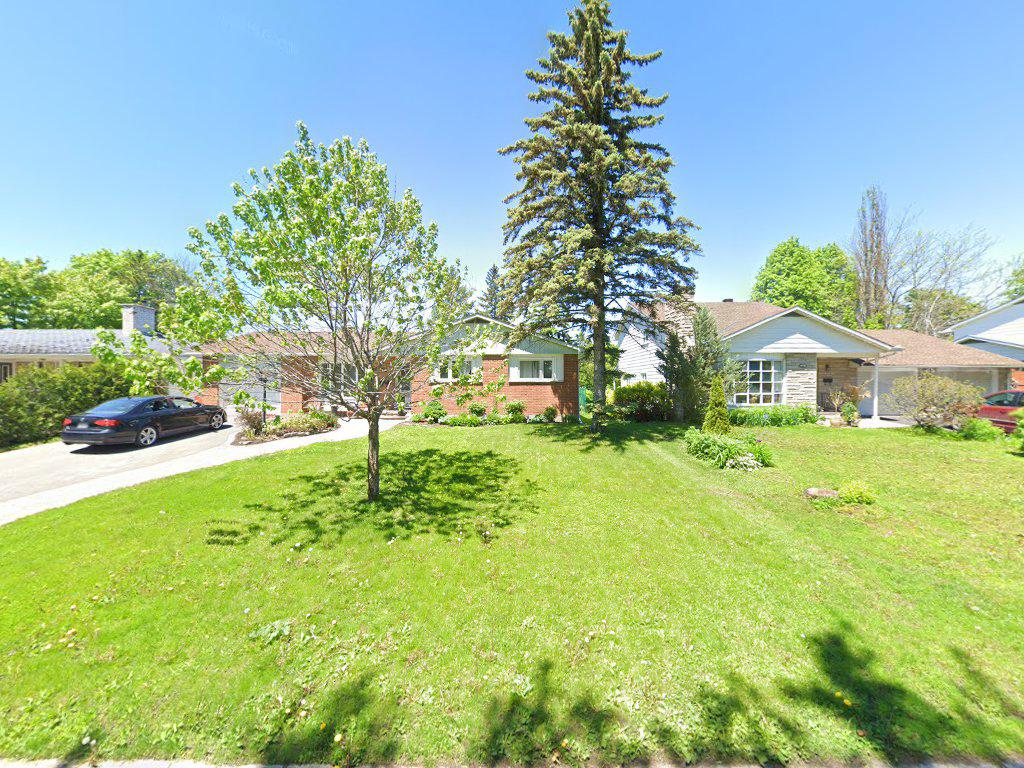trunk: (361, 403, 387, 516), (588, 317, 610, 437)
